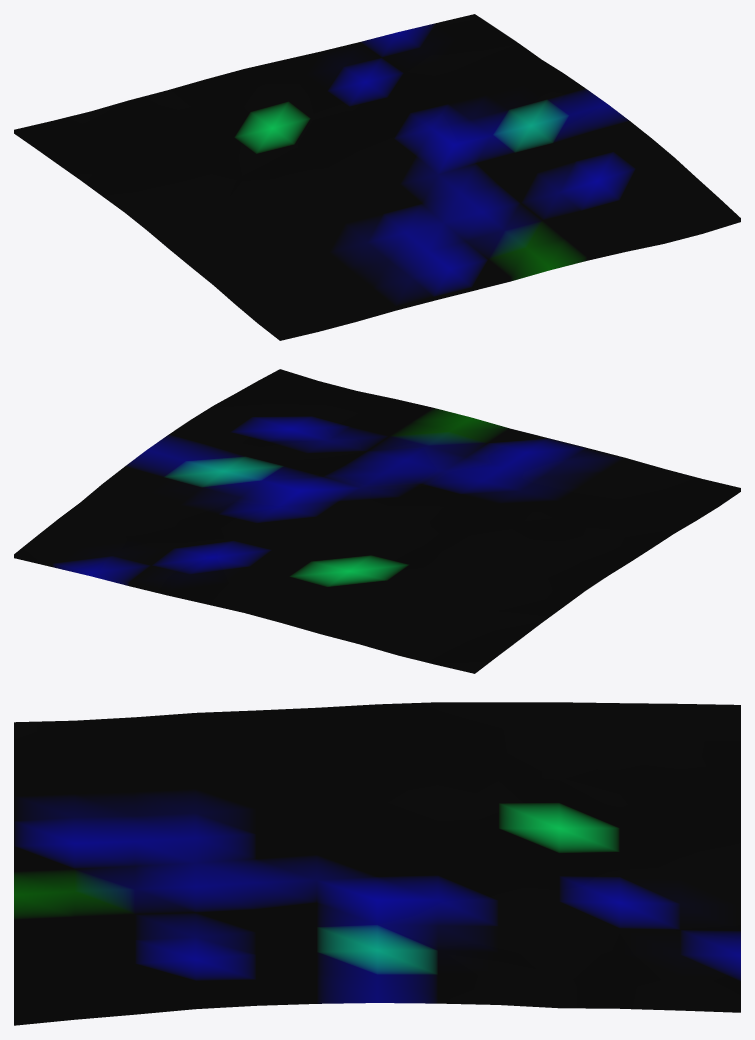
The model's file is coast_16_5.glb.
The picture shows the model from 3 angles, top to bottom: view 1: azimuth 30°, elevation 25°; view 2: azimuth 150°, elevation 25°; view 3: azimuth 270°, elevation 25°; orthographic projection. The views are drawn at different scales.
Parts seen in each view (by area): view 1: terrain; view 2: terrain; view 3: terrain.
Boxes of the visible parts, left/top/right/bottom form: terrain: left=14, top=14, right=740, bottom=340; terrain: left=14, top=369, right=740, bottom=673; terrain: left=14, top=702, right=740, bottom=1025.
Size of the model in its own units: 192 by 10.84 by 192.
